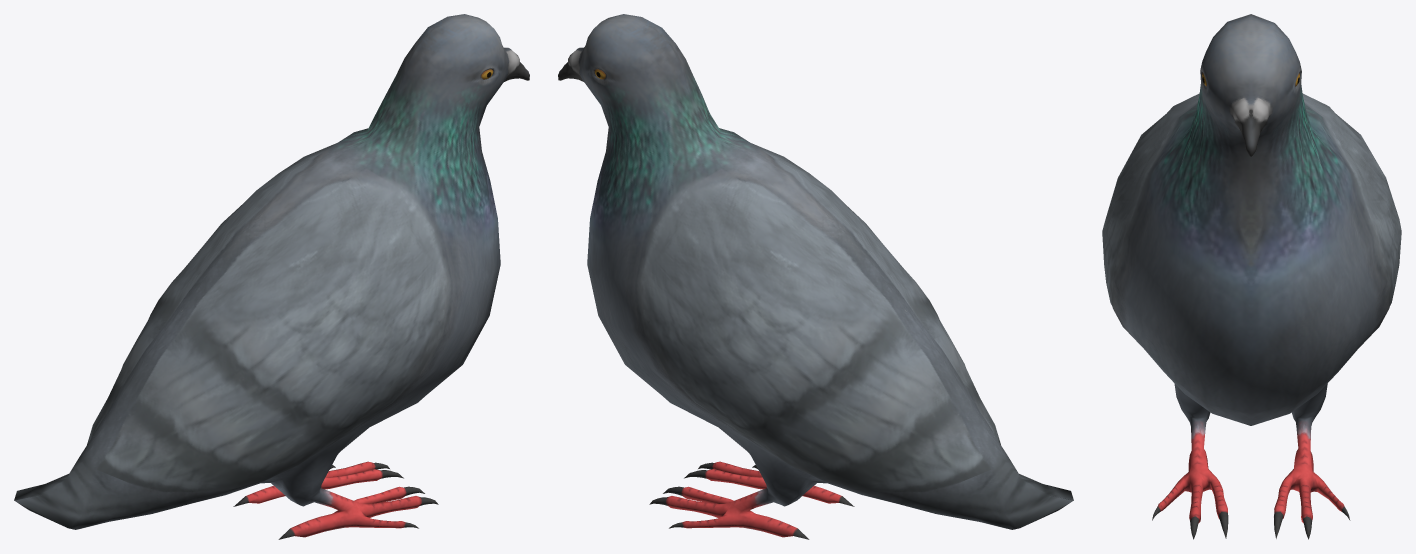
The model's file is holub.glb.
3 views of the same model, side by side, from view 1: azimuth 30°, elevation 25°; view 2: azimuth 150°, elevation 25°; view 3: azimuth 270°, elevation 25° (orthographic). The views are drawn at different scales.
Parts seen in each view (by area): view 1: Venezia_Pegeon; view 2: Venezia_Pegeon; view 3: Venezia_Pegeon.
Part boxes in pixels (bbox=[...]): Venezia_Pegeon: bbox=[14, 14, 529, 539]; Venezia_Pegeon: bbox=[558, 14, 1073, 539]; Venezia_Pegeon: bbox=[1102, 14, 1401, 539].
Bounding box in the file's own units: 48.75 × 41.54 × 20.67.
1 material, 1 textured.
